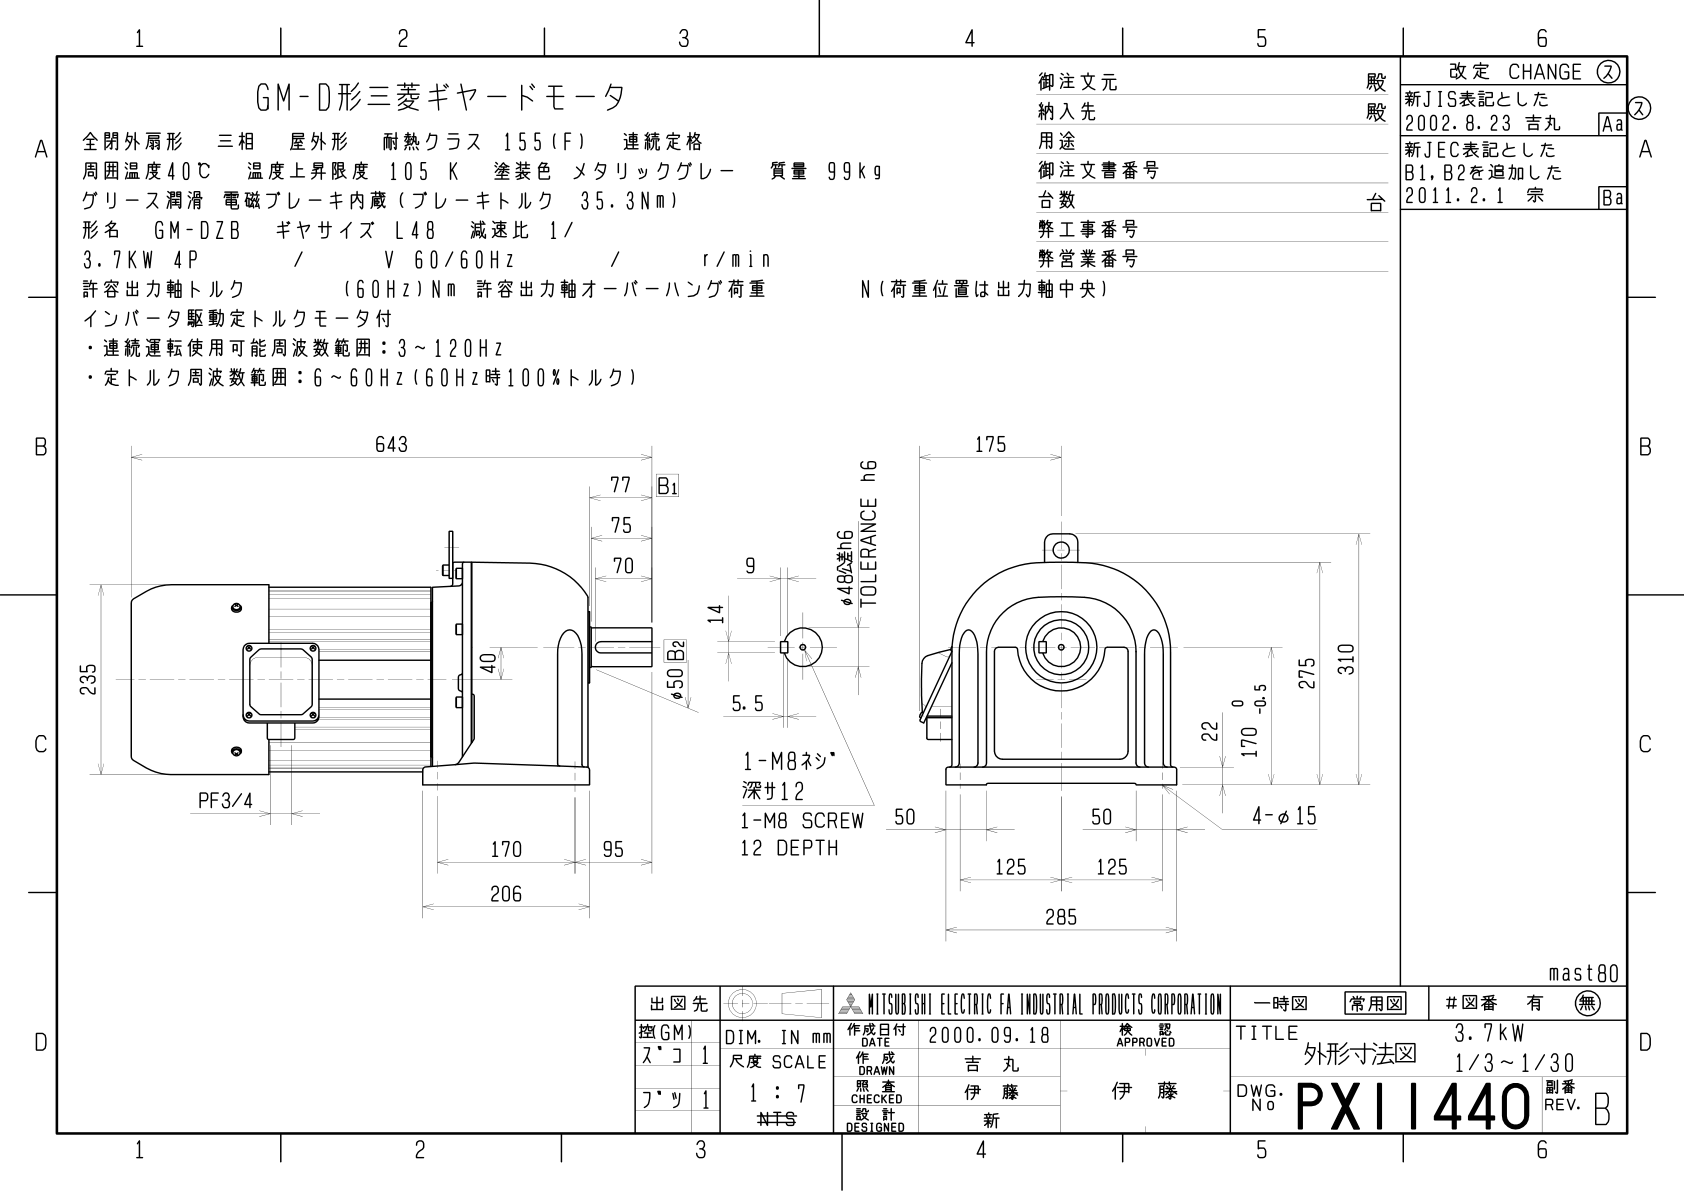GM_D_インバータ屋外_三相_脚: (13, 1, 1684, 1191)
